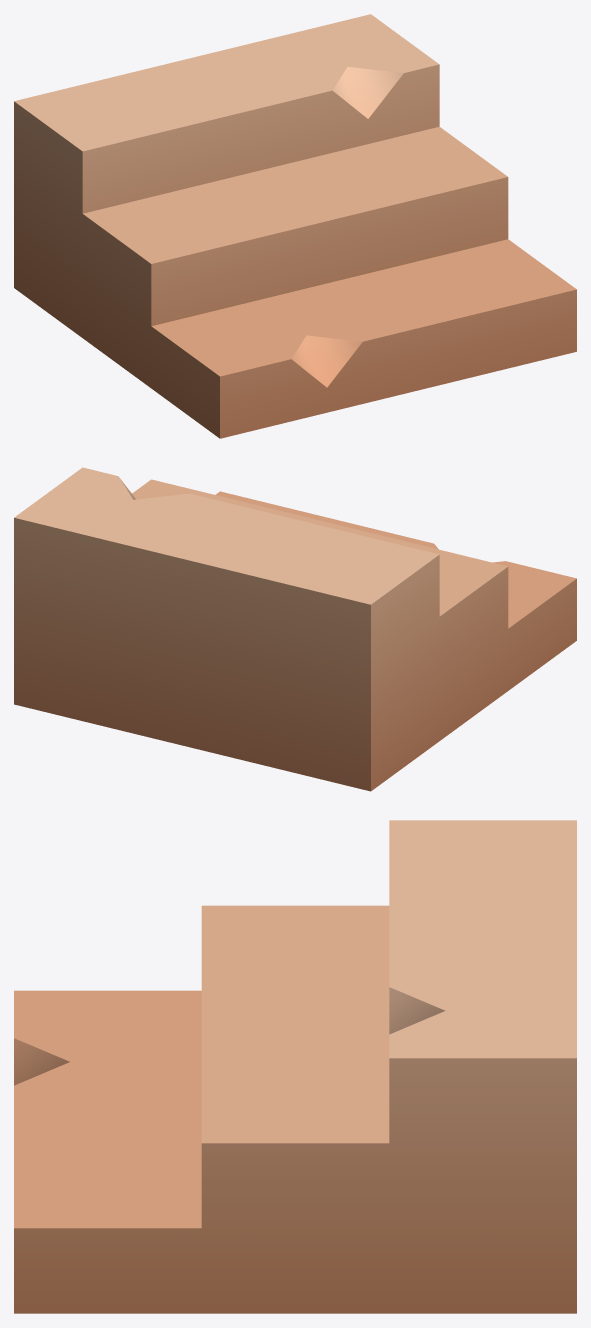
Rendered from stairs.glb.
The picture shows the model from 3 angles, top to bottom: view 1: azimuth 30°, elevation 25°; view 2: azimuth 150°, elevation 25°; view 3: azimuth 270°, elevation 25°; orthographic projection. The views are drawn at different scales.
Parts seen in each view (by area): view 1: stairs; view 2: stairs; view 3: stairs.
Boxes of the visible parts, <box> form: stairs: <box>14,14,576,438</box>; stairs: <box>14,467,576,791</box>; stairs: <box>14,820,576,1313</box>.
Size of the model in its own units: 1 by 0.5 by 1.
1 material, 1 textured.
